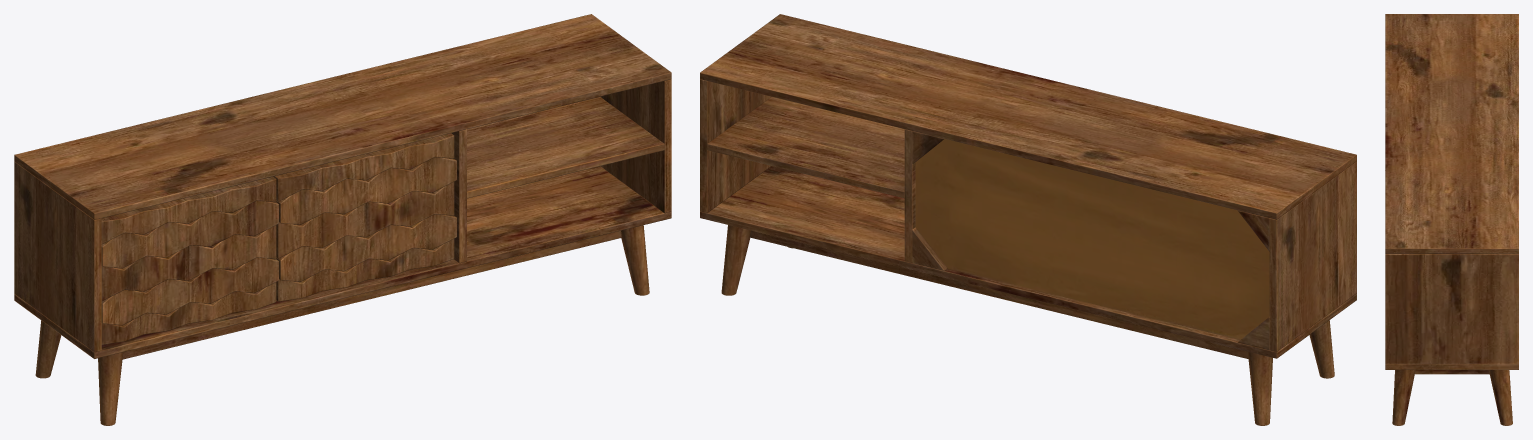
Rendered from abo-B07HSG8DPZ.glb.
3 renders of one model, left to right at view 1: azimuth 30°, elevation 25°; view 2: azimuth 150°, elevation 25°; view 3: azimuth 270°, elevation 25°, orthographic. The views are drawn at different scales.
Bounding box in the file's own units: 1.45 × 0.528 × 0.349.
Materials: 1 (1 with a texture image).
